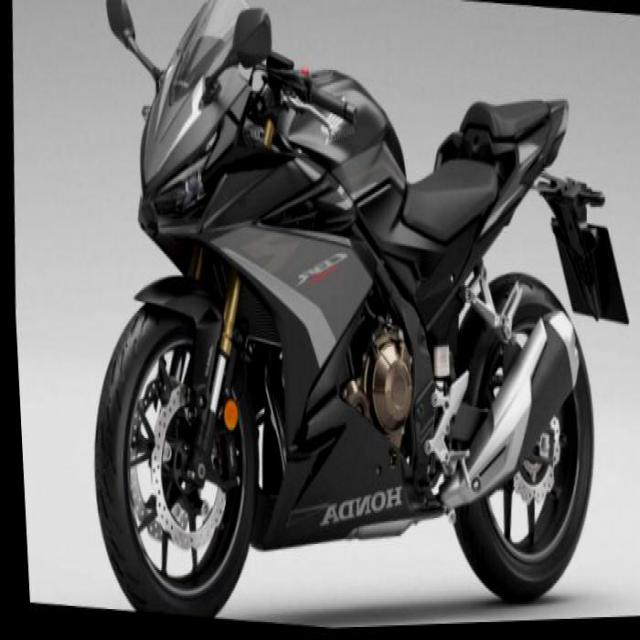CBR500R: (65, 0, 639, 637)
